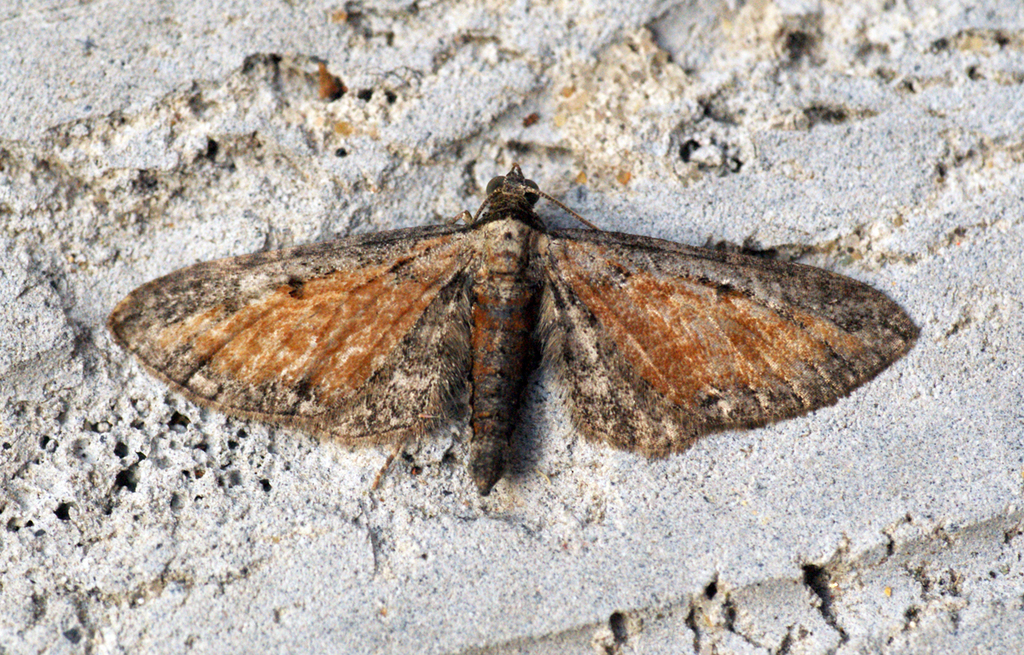Butterfly: (89, 153, 971, 494)
